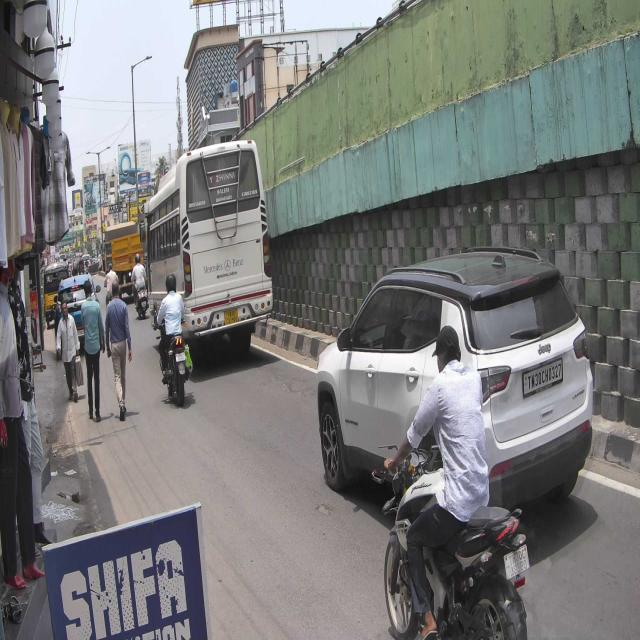single_rider: (380, 322, 529, 640)
